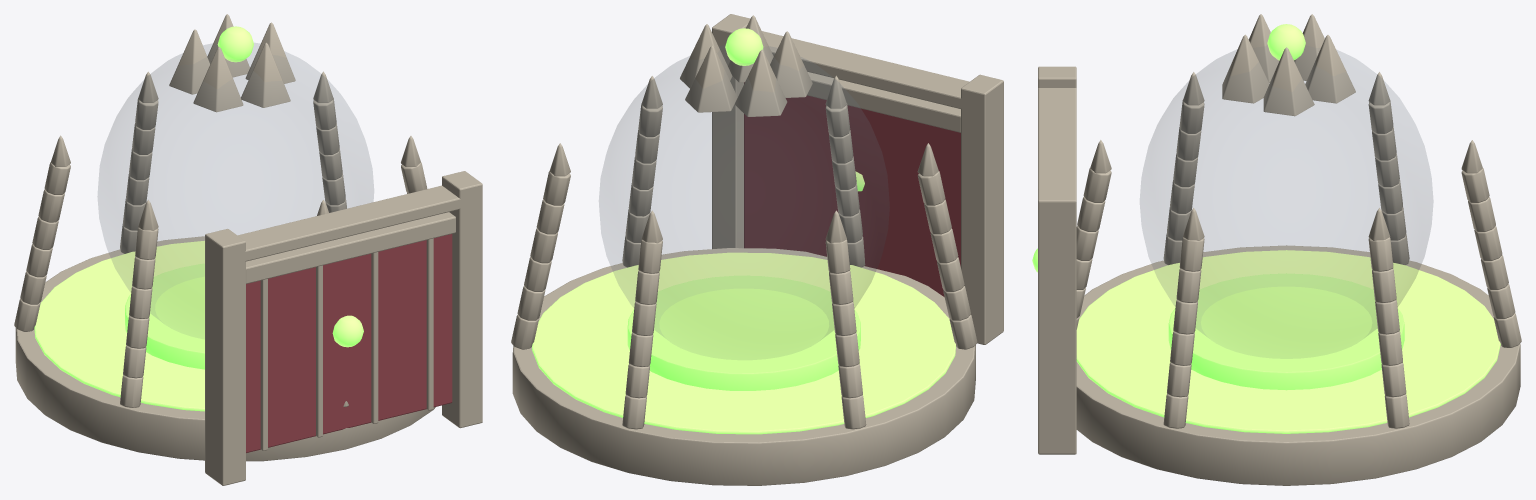
The model's file is MonsterHub_BLOOM_Hatchery.glb.
3 renders of one model, left to right at view 1: azimuth 30°, elevation 25°; view 2: azimuth 150°, elevation 25°; view 3: azimuth 270°, elevation 25°, orthographic. The views are drawn at different scales.
Visible parts, largest first — view 1: MonsterHub_BLOOM_Hatchery, MonsterHub_BLOOM_Hatchery_Gate; view 2: MonsterHub_BLOOM_Hatchery, MonsterHub_BLOOM_Hatchery_Gate; view 3: MonsterHub_BLOOM_Hatchery.
Boxes of the visible parts, x1=… form: MonsterHub_BLOOM_Hatchery: x1=14, y1=14, x2=482, y2=485; MonsterHub_BLOOM_Hatchery_Gate: x1=246, y1=212, x2=455, y2=452; MonsterHub_BLOOM_Hatchery: x1=511, y1=14, x2=1003, y2=485; MonsterHub_BLOOM_Hatchery_Gate: x1=744, y1=72, x2=960, y2=296; MonsterHub_BLOOM_Hatchery: x1=1038, y1=14, x2=1521, y2=485.
Bounding box in the file's own units: 4.84 × 4.13 × 5.06.
